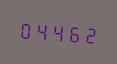four: (34, 18, 49, 43), (50, 19, 65, 44)
six: (66, 20, 81, 45)
two: (82, 21, 97, 46)
zero: (18, 17, 33, 42)
